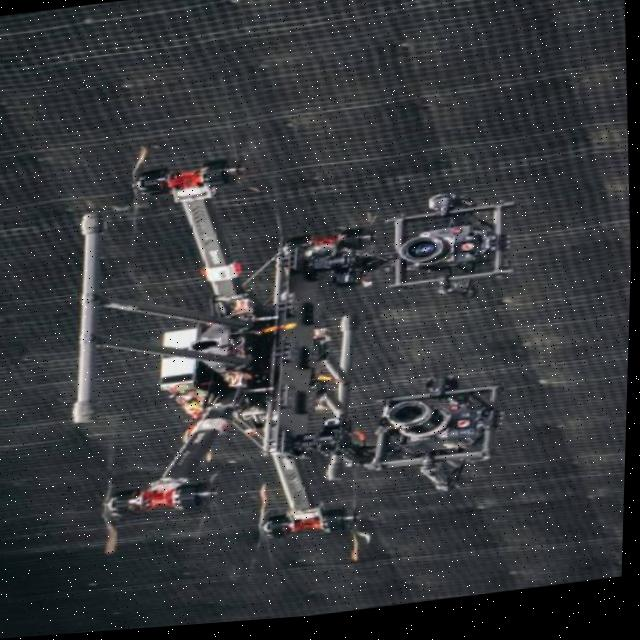drones: (33, 104, 563, 605)
